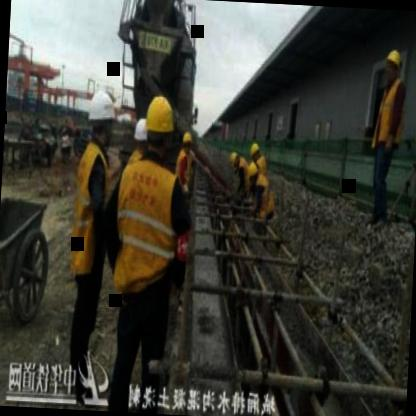helmet: (142, 88, 178, 162), (86, 87, 116, 142), (129, 112, 151, 158), (379, 46, 401, 84), (224, 147, 244, 175), (180, 126, 196, 160), (245, 139, 264, 163), (245, 160, 260, 190)
